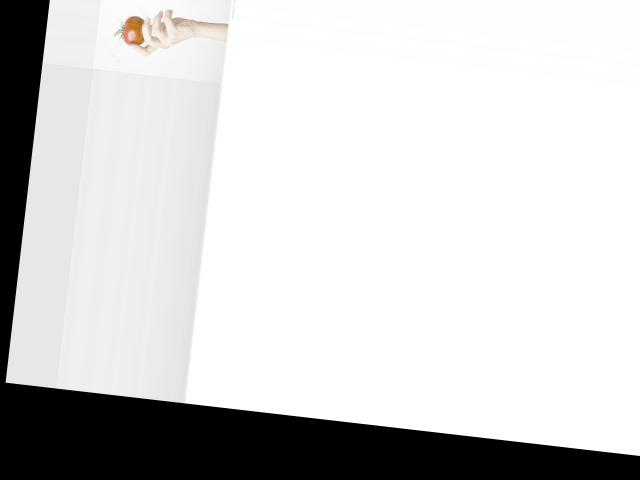tomato: (112, 13, 146, 46)
